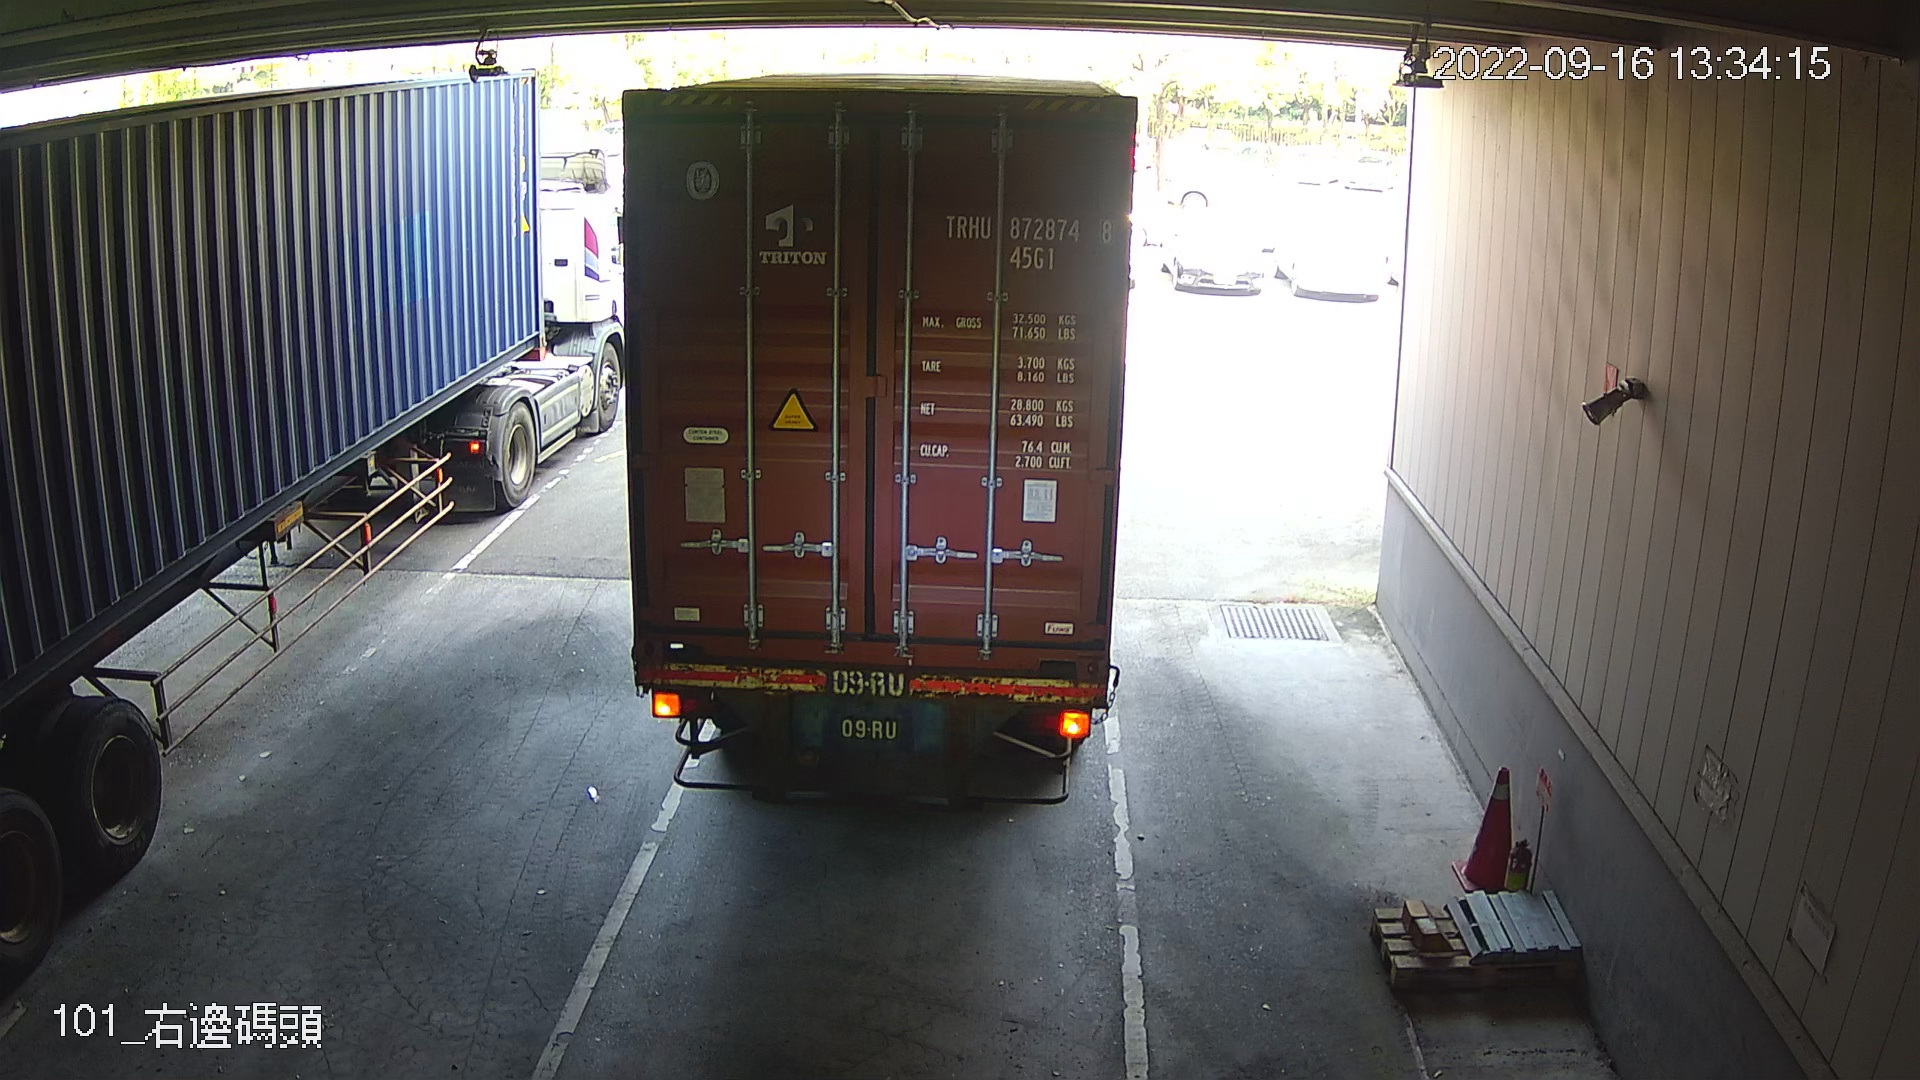container: (934, 200, 1122, 280)
